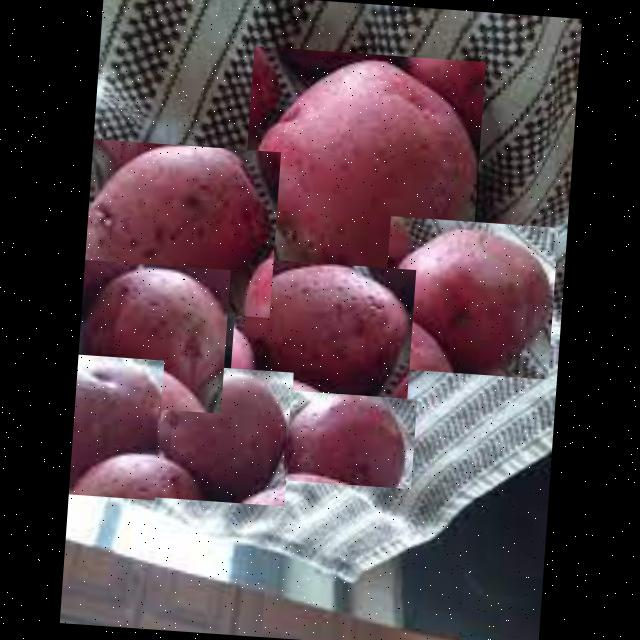Defected potato: (236, 44, 485, 298), (80, 138, 280, 316), (379, 215, 557, 378), (228, 256, 414, 406), (74, 258, 230, 412), (150, 362, 292, 505), (67, 352, 163, 500), (284, 389, 416, 488)
